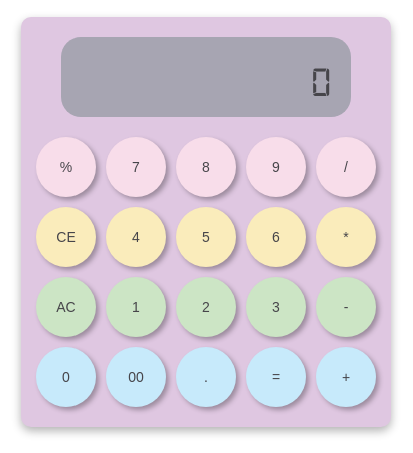
Test: <App/> component › user clicks multiple buttons and updates the display correctly
Check: the message "0" is shown, box [61,37,351,117]
# find button with label 2 and click it
Click the button "2" at (206, 307), box [176,277,236,337]
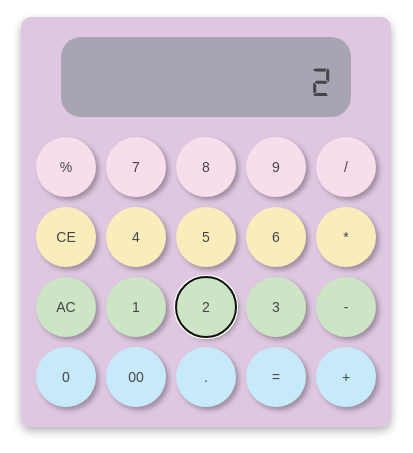
# find button with label 1 and click it
Click the button "1" at (136, 307), box [106,277,166,337]
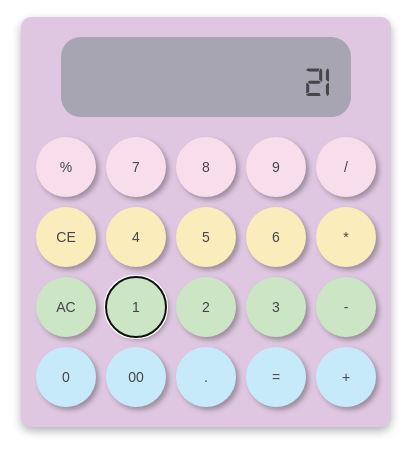
Check: the message reads "21", box [304,65,331,88]
